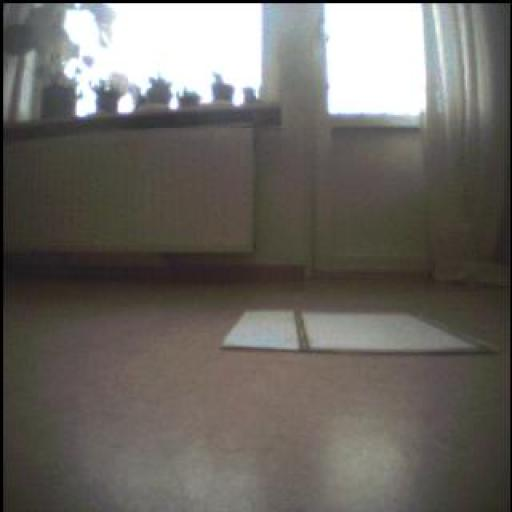Pad: (218, 312, 505, 350)
